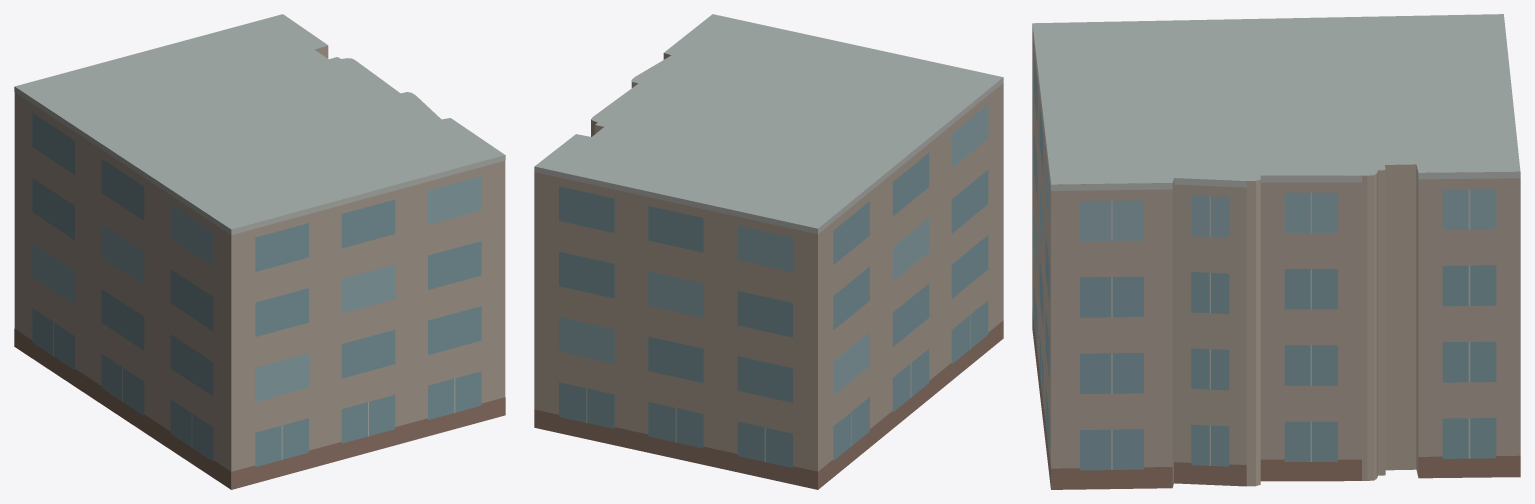
File: survey-upis-32782071.glb
3 renders of one model, left to right at view 1: azimuth 30°, elevation 25°; view 2: azimuth 150°, elevation 25°; view 3: azimuth 270°, elevation 25°, orthographic. The views are drawn at different scales.
Parts seen in each view (by area): view 1: survey-upis-32782071.tmp; view 2: survey-upis-32782071.tmp; view 3: survey-upis-32782071.tmp.
Boxes of the visible parts, bbox=[...] form: survey-upis-32782071.tmp: bbox=[14, 14, 505, 489]; survey-upis-32782071.tmp: bbox=[534, 14, 1003, 489]; survey-upis-32782071.tmp: bbox=[1032, 14, 1520, 489].
Bounding box in the file's own units: 13.66 × 11.4 × 16.53.
